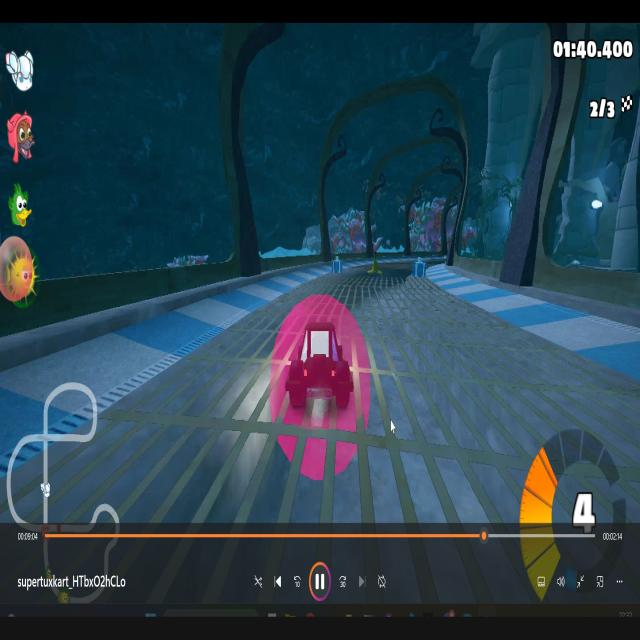bonus: (409, 253, 430, 280), (330, 252, 343, 277)
obstacle: (364, 258, 384, 283)
player_kart: (282, 320, 356, 433)
